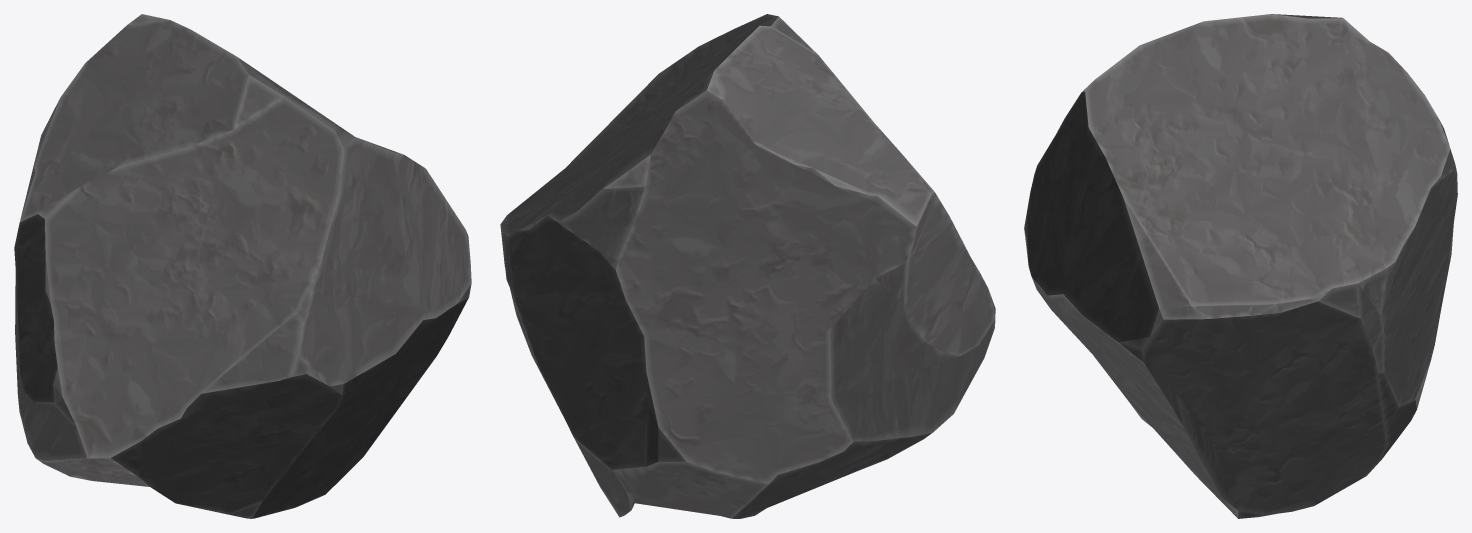
Rendered from rock_average.glb.
3 views of the same model, side by side, from view 1: azimuth 30°, elevation 25°; view 2: azimuth 150°, elevation 25°; view 3: azimuth 270°, elevation 25° (orthographic). The views are drawn at different scales.
Visible parts, largest first — view 1: Cube.007; view 2: Cube.007; view 3: Cube.007.
Part boxes in pixels (x1,y1,x2,y2): Cube.007: [14, 14, 471, 518]; Cube.007: [500, 14, 995, 518]; Cube.007: [1024, 14, 1457, 518].
Bounding box in the file's own units: 7.38 × 8.02 × 6.93.
1 material, 1 textured.
